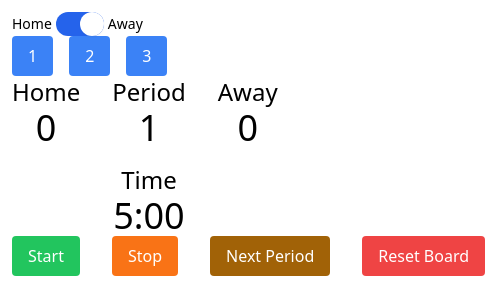
Test case: tests using the setup function › updates the Home and Away score based on the toggles
Click the button "1": (33, 56) [12, 36, 53, 76]
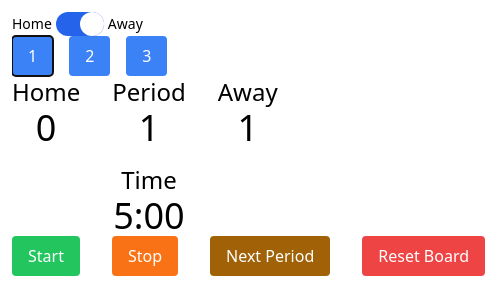
Check: the text with test id "home-score" reads "0", box [36, 103, 56, 152]
Check: the text with test id "away-score" reads "1", box [237, 103, 258, 152]
Click the checkbox: (77, 24) [12, 12, 143, 36]
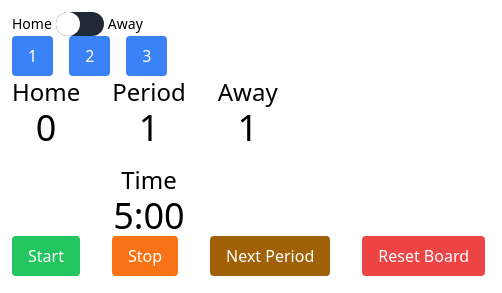
Click the button "1": (33, 56) [12, 36, 53, 76]
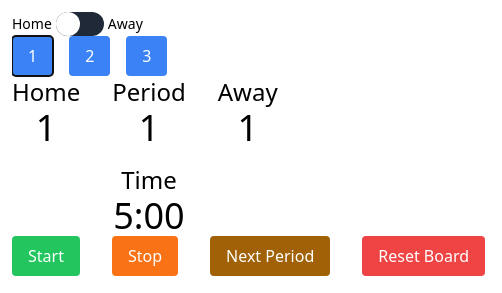
Check: the text with test id "away-score" reads "1", box [237, 103, 258, 152]
Check: the text with test id "home-score" reads "1", box [36, 103, 56, 152]
Click the checkbox: (77, 24) [12, 12, 143, 36]
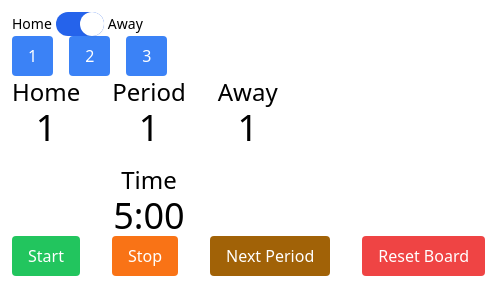
Click the button "1": (33, 56) [12, 36, 53, 76]
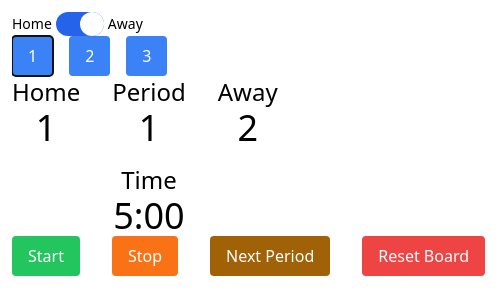
Check: the text with test id "home-score" reads "1", box [36, 103, 56, 152]
Check: the text with test id "away-score" reads "2", box [237, 103, 258, 152]
